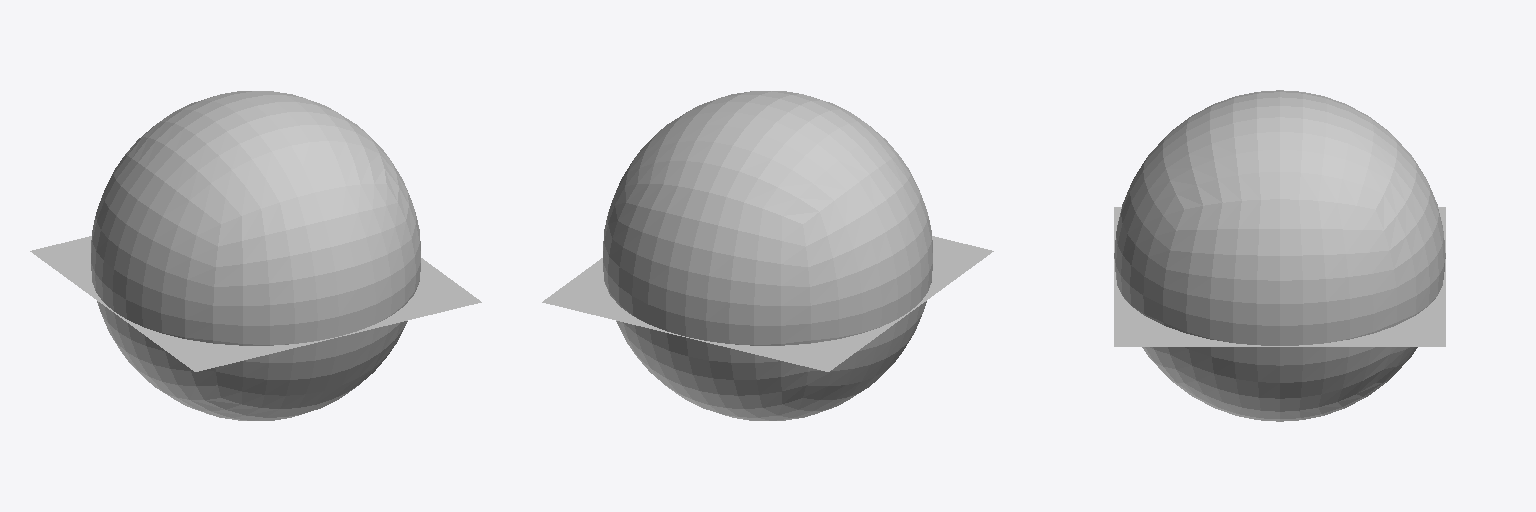
Rendered from SimpleSkyDome.obj.
3 views of the same model, side by side, from view 1: azimuth 30°, elevation 25°; view 2: azimuth 150°, elevation 25°; view 3: azimuth 270°, elevation 25° (orthographic).
Parts seen in each view (by area): view 1: Roundcube, Plane; view 2: Roundcube, Plane; view 3: Roundcube, Plane.
Boxes of the visible parts, <box> form: Roundcube: <box>91,91,420,420</box>; Plane: <box>30,236,481,371</box>; Roundcube: <box>603,91,932,420</box>; Plane: <box>542,236,993,371</box>; Roundcube: <box>1114,90,1445,421</box>; Plane: <box>1114,207,1445,346</box>.
Size of the model in its own units: 500 by 500 by 500.